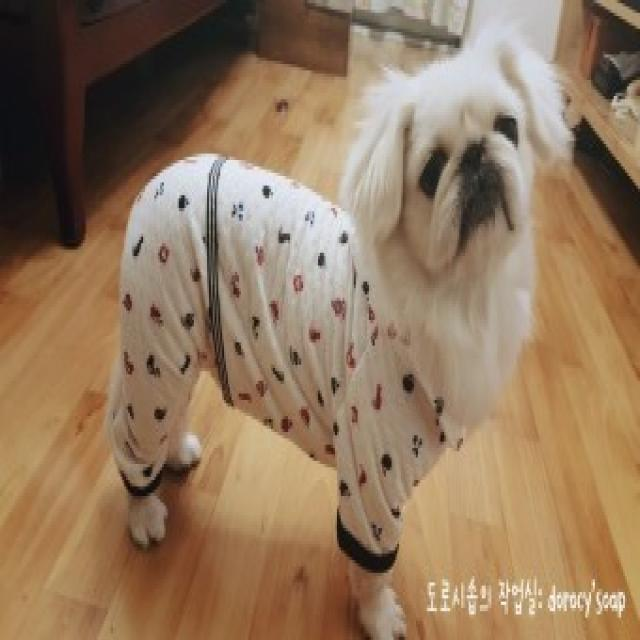cloth: (108, 155, 445, 573)
